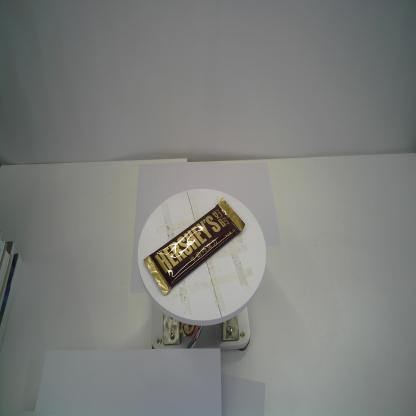Chocolate: (143, 196, 246, 296)
